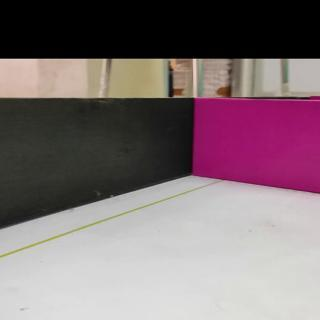xparking: (196, 99, 320, 188)
